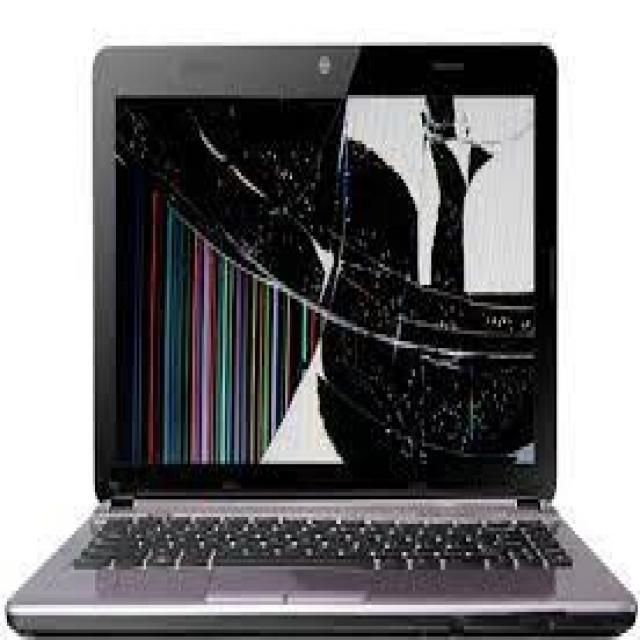Screen cracks: (118, 95, 536, 468)
